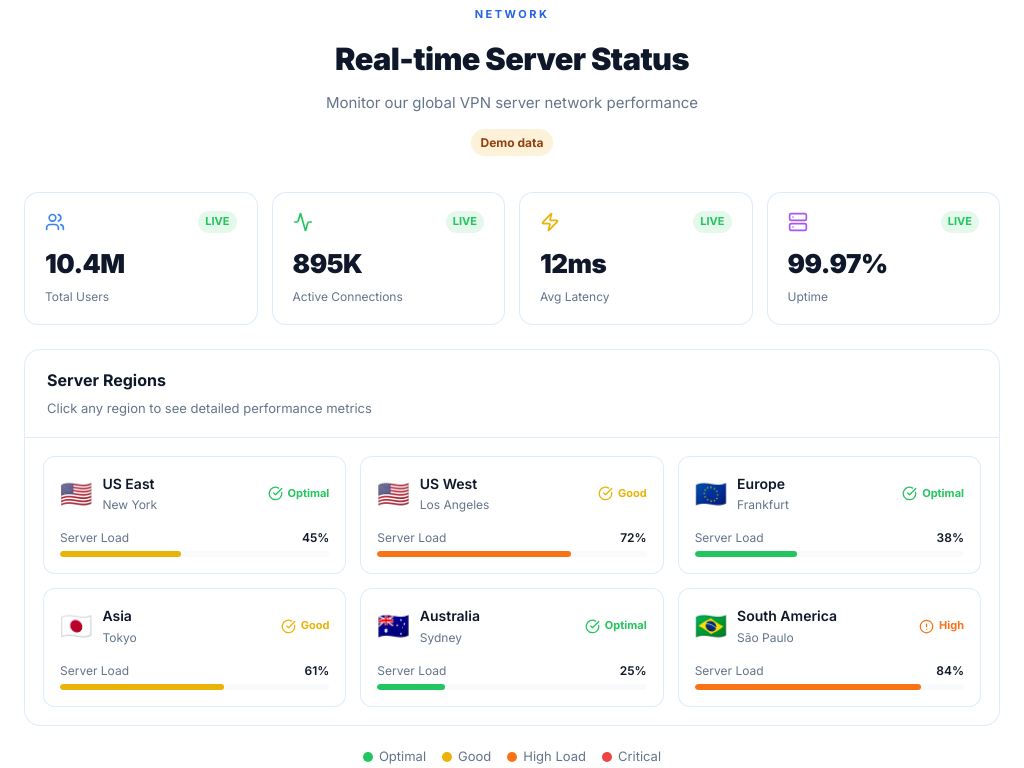
Test: expands a region card when selected
Expected: the text "Demo data" is shown, x1=470 y1=129 x2=553 y2=156
Click the text "US East". click: click(130, 484)
box: x1=102 y1=473 x2=157 y2=495
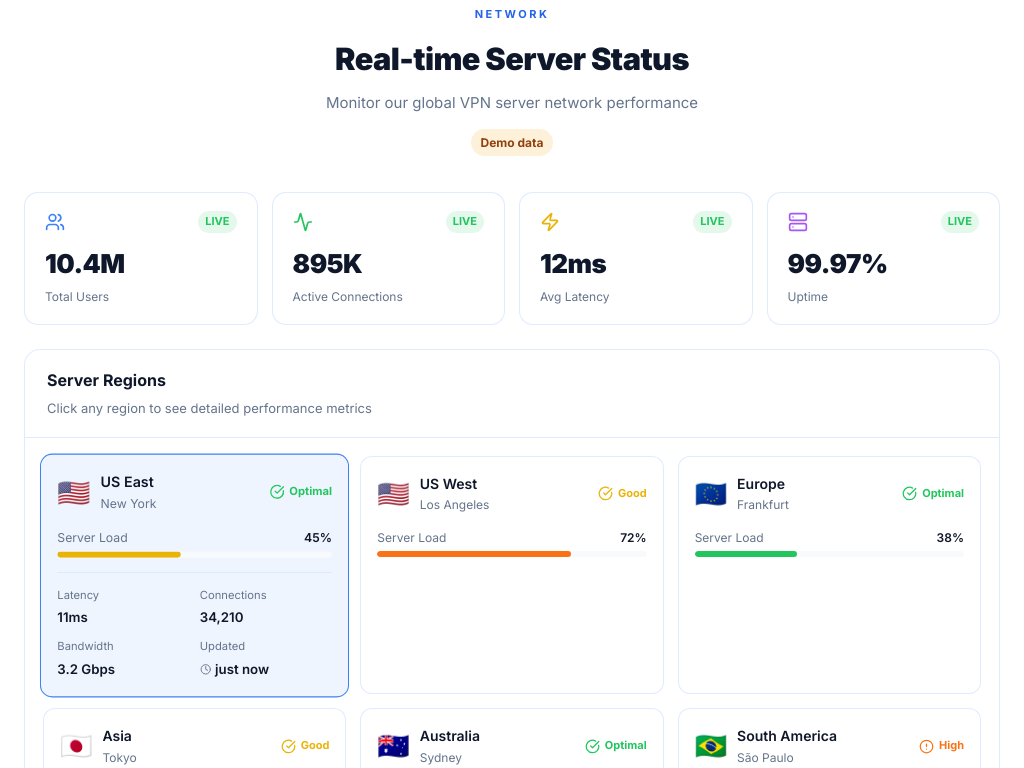
Expected: the text "Connections" is shown, x1=200 y1=588 x2=267 y2=602
Expected: the text "just now" is shown, x1=200 y1=660 x2=269 y2=676
